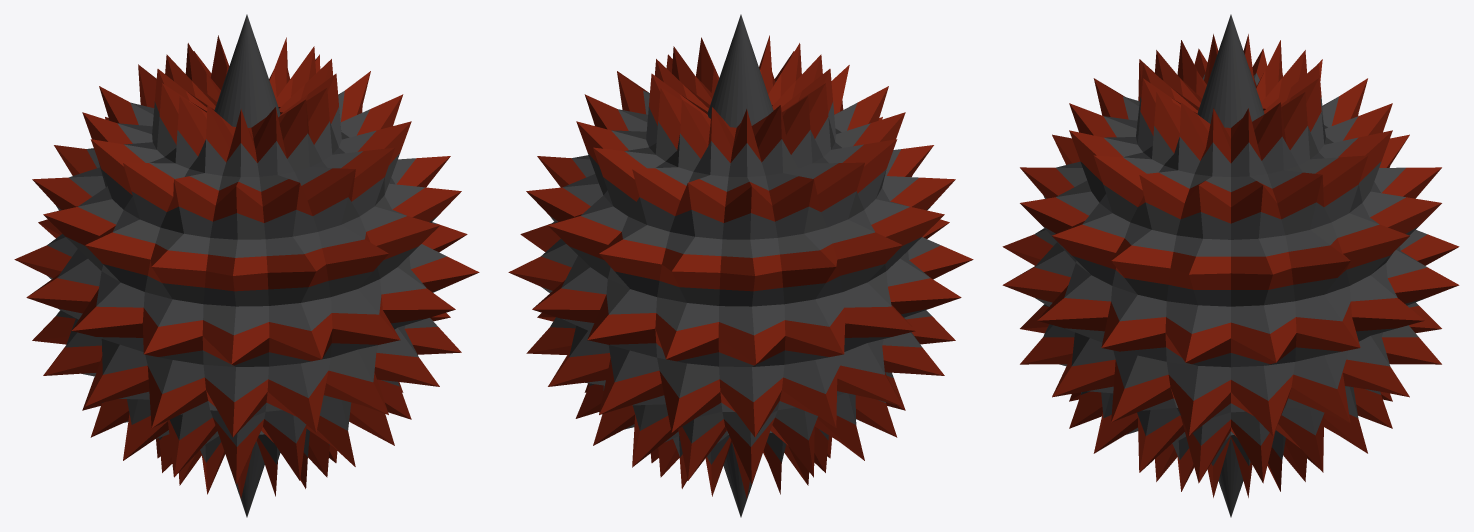
File: FireTower_Projectile.fbx
3 renders of one model, left to right at view 1: azimuth 30°, elevation 25°; view 2: azimuth 150°, elevation 25°; view 3: azimuth 270°, elevation 25°, orthographic.
Visible parts, largest first — view 1: FireBall_Projectile.001; view 2: FireBall_Projectile.001; view 3: FireBall_Projectile.001.
Part boxes in pixels (left/top/right/bottom): FireBall_Projectile.001: left=14, top=14, right=479, bottom=517; FireBall_Projectile.001: left=508, top=14, right=973, bottom=517; FireBall_Projectile.001: left=1002, top=14, right=1459, bottom=517.
Size of the model in its own units: 267 by 325 by 267.
